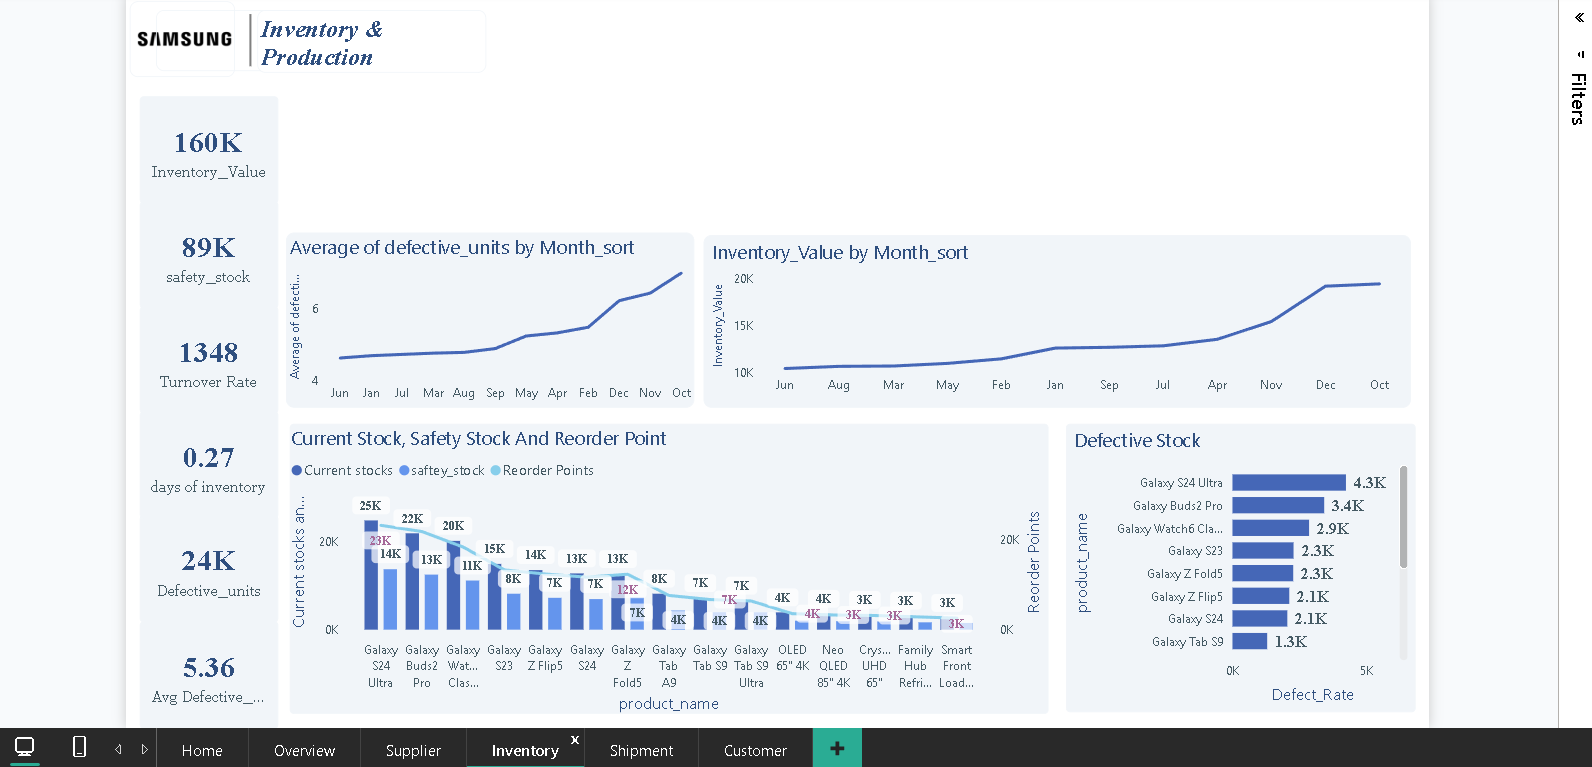

Layout of this report page (visuals, bound fields, positions):
{"tool":"powerbi","page":{"name":"Inventory","canvas":[1280,720],"ordinal":3},"visuals":[{"type":"image","box":[3.7,6.2,103.2,74.6],"z":0},{"type":"shape","box":[29.9,14.9,185.3,59.7],"z":1000},{"type":"shape","title":"Inventory & Production","box":[128.8,14.7,224.5,61.4],"z":2000},{"type":"card","fields":{"Values":["Sum(fact_inventory.safety_stock_level)"]},"box":[13,202,135.6,105.3],"z":3000},{"type":"card","fields":{"Values":["MeasuresTable.Turnover Rate"]},"box":[13,305.9,135.6,105.3],"z":4000},{"type":"card","fields":{"Values":["Sum(fact_production.defective_units)"]},"box":[13,510.7,135.6,105.3],"z":5000},{"type":"card","fields":{"Values":["MeasuresTable.days of inventory"]},"box":[13,408.3,135.6,105.3],"z":6000},{"type":"card","fields":{"Values":["Avg(fact_production.defective_units)"]},"box":[13,614.6,135.6,105.3],"z":7000},{"type":"card","fields":{"Values":["MeasuresTable.Inventory_Value"]},"box":[13,99.6,135.6,105.3],"z":8000},{"type":"lineClusteredColumnComboChart","title":"Current Stock, Safety Stock And Reorder Point","fields":{"Category":["dim_product.product_name"],"Y":["MeasuresTable.Inventory_Value","MeasuresTable.saftey_stock"],"Y2":["MeasuresTable.Reorder Points"]},"box":[160.7,420.9,744.8,284.7],"z":9000},{"type":"clusteredBarChart","title":"Defective Stock","fields":{"Category":["dim_product.product_name"],"Y":["MeasuresTable.Defect_Rate"]},"box":[922.7,420.9,343.6,283.4],"z":10000},{"type":"lineChart","fields":{"Y":["Avg(fact_production.defective_units)"],"Category":["dim_date.Month_sort"]},"box":[156.4,233.2,401.1,172.1],"z":11000},{"type":"lineChart","fields":{"Category":["dim_date.Month_sort"],"Y":["MeasuresTable.Inventory_Value"]},"box":[567.5,236.1,694,169.2],"z":12000}]}

Visuals, with their boxes on the page's 1280x720 design canvas (x1, y1, x2, y2). These are canvas units, not pixel positions in the 1592x767 screenshot, which may show the page scaled, cropped or inside an application window:
image: [4, 6, 107, 81]
shape: [30, 15, 215, 75]
"Inventory & Production" shape: [129, 15, 353, 76]
card - Sum(fact_inventory.safety_stock_level): [13, 202, 149, 307]
card - MeasuresTable.Turnover Rate: [13, 306, 149, 411]
card - Sum(fact_production.defective_units): [13, 511, 149, 616]
card - MeasuresTable.days of inventory: [13, 408, 149, 514]
card - Avg(fact_production.defective_units): [13, 615, 149, 720]
card - MeasuresTable.Inventory_Value: [13, 100, 149, 205]
"Current Stock, Safety Stock And Reorder Point" lineClusteredColumnComboChart: [161, 421, 906, 706]
"Defective Stock" clusteredBarChart: [923, 421, 1266, 704]
lineChart - Avg(fact_production.defective_units) x dim_date.Month_sort: [156, 233, 558, 405]
lineChart - dim_date.Month_sort x MeasuresTable.Inventory_Value: [568, 236, 1262, 405]
